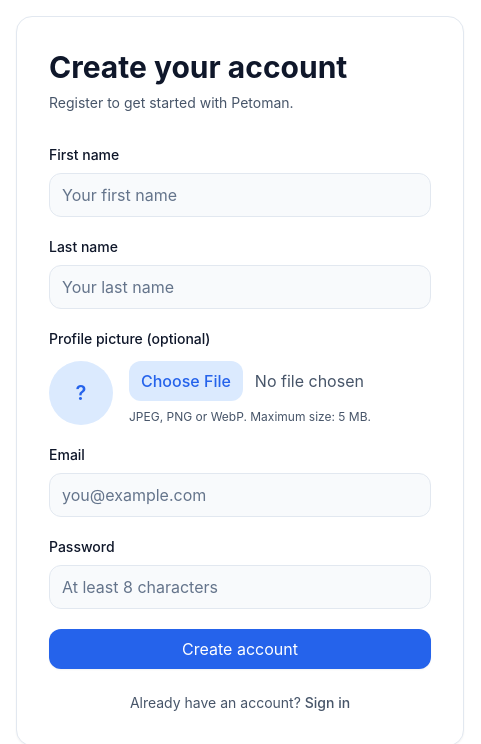
Test: RegisterPage › registers successfully and shows the email verification message
Step 1. Type "Ali" into the field labelled "First name" → (240, 195), box [49,173,431,217]
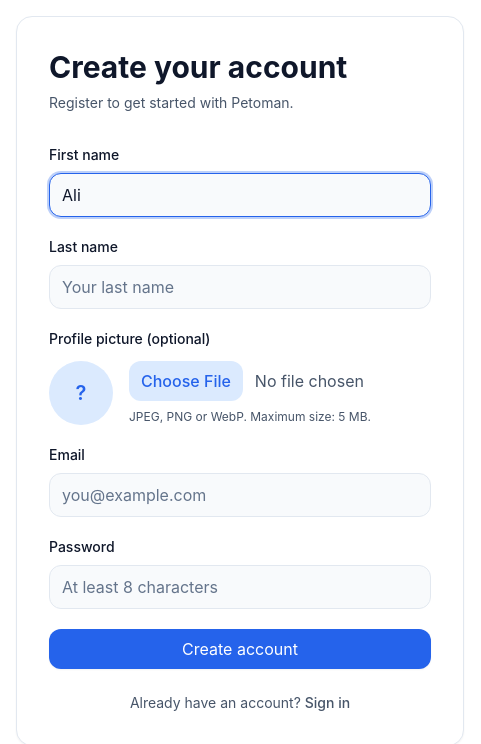
Step 2. Type "Noori" into the field labelled "Last name" → (240, 287), box [49,265,431,309]
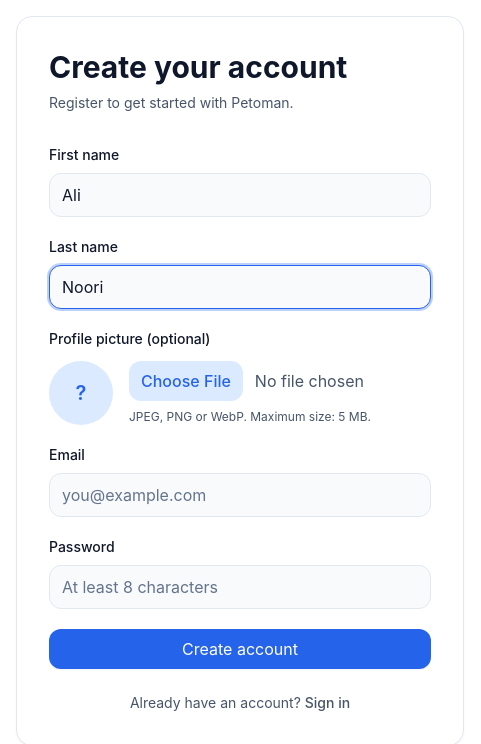
Step 3. Type "user@example.com" into the field labelled "Email" → (240, 495), box [49,473,431,517]
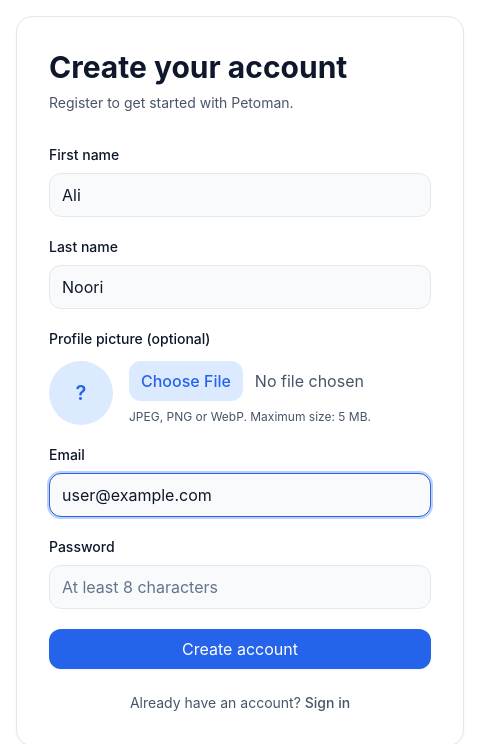
Step 4. Type "password123" into the password field labelled "Password" → (240, 587), box [49,565,431,609]
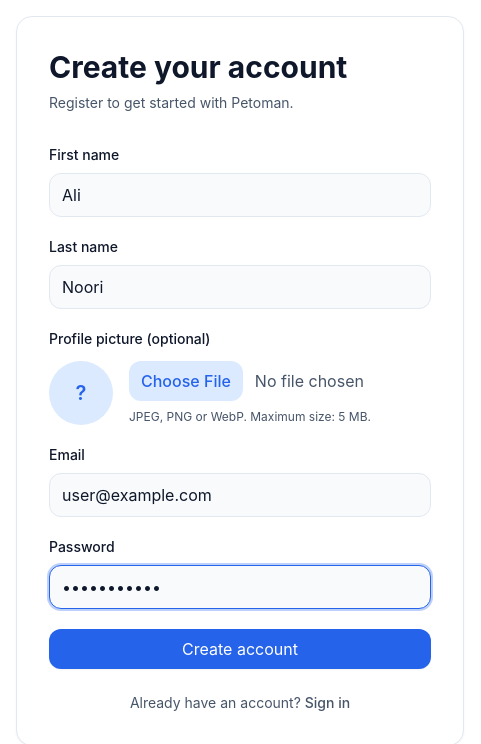
Step 5. Click the button "Create account" → click(240, 649), box [49,629,431,669]
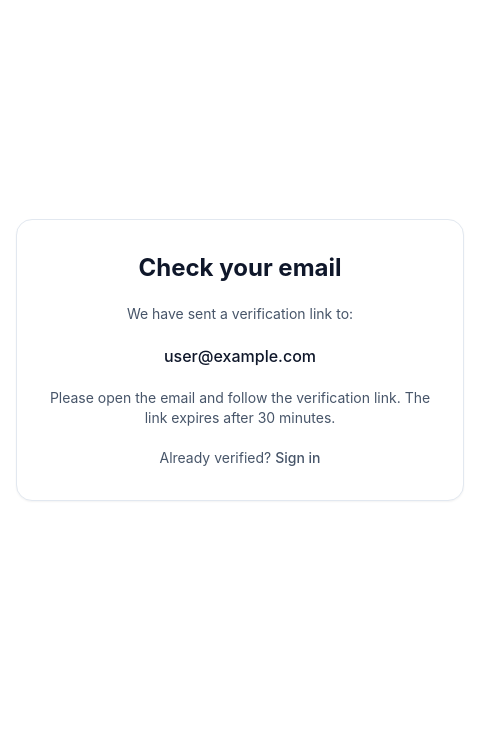
Expected: the heading "Check your email" is shown, [138,253,342,282]
Expected: the text "user@example.com" is shown, [164,346,316,366]
Expected: the text "the link expires after 30 minutes" is shown, [50,389,430,426]
